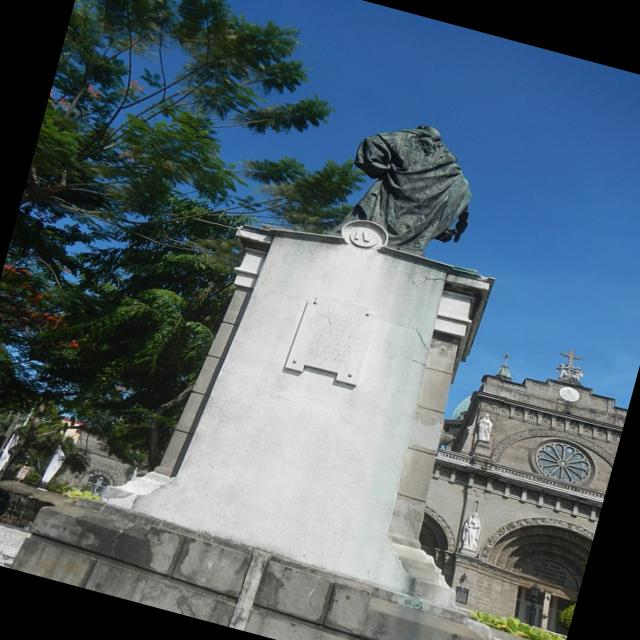King Charles IV Monument: (0, 116, 501, 640)
